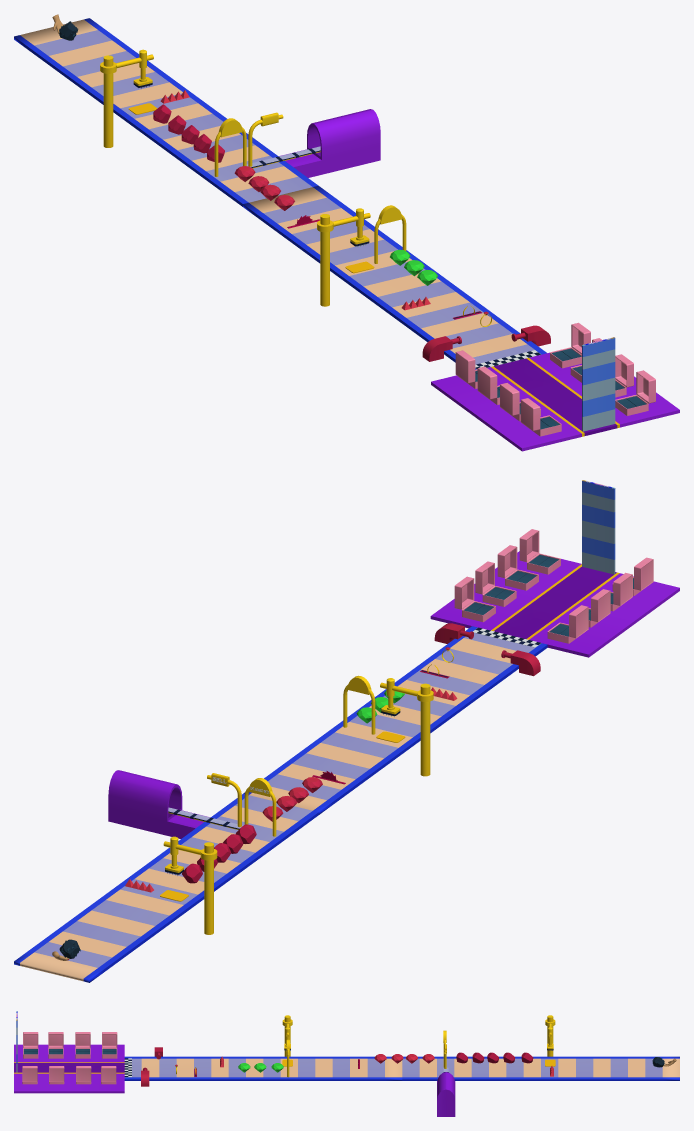
Rendered from my stack game (1).fbx.
3 renders of one model, top to bottom at view 1: azimuth 30°, elevation 25°; view 2: azimuth 150°, elevation 25°; view 3: azimuth 270°, elevation 25°, orthographic. The views are drawn at different scales.
Parts seen in each view (by area): view 1: plane, Plane, SELL, PointsT, Circle, Circle.001, Cube.004, Cube.018, Cube.010; view 2: plane, Plane, SELL, PointsT, Circle.001, Circle, Cube.004, Cube.006, Cube.010, Cube.008, Cube.012; view 3: plane, Plane, SELL, Cube.012, Cube.014, Cube.016, Cube.018, Cube.006, Cube.008, Cube.004, Cube.010, Circle (+1 smaller).
Part boxes in pixels (x1,y1,x2,y2): plane: [14, 18, 546, 369]; Plane: [431, 352, 679, 451]; SELL: [279, 109, 380, 177]; PointsT: [582, 337, 615, 431]; Circle: [100, 49, 153, 147]; Circle.001: [317, 208, 370, 306]; Cube.004: [615, 370, 655, 415]; Cube.018: [520, 398, 561, 436]; Cube.010: [550, 322, 590, 368]; plane: [14, 626, 547, 982]; Plane: [430, 551, 679, 657]; SELL: [108, 770, 210, 838]; PointsT: [582, 480, 615, 574]; Circle.001: [380, 678, 433, 776]; Circle: [163, 836, 217, 934]; Cube.004: [519, 529, 560, 574]; Cube.006: [497, 545, 538, 590]; Cube.010: [454, 576, 495, 622]; Cube.008: [475, 561, 516, 606]; Cube.012: [547, 605, 588, 643]; plane: [124, 1056, 679, 1080]; Plane: [14, 1044, 124, 1093]; SELL: [437, 1072, 455, 1116]; Cube.012: [102, 1032, 117, 1058]; Cube.014: [75, 1032, 90, 1058]; Cube.016: [48, 1032, 63, 1058]; Cube.018: [23, 1032, 38, 1058]; Cube.006: [49, 1066, 64, 1084]; Cube.008: [76, 1066, 91, 1084]; Cube.004: [22, 1066, 37, 1084]; Cube.010: [101, 1066, 116, 1084]; Circle: [545, 1015, 555, 1056].
Bounding box in the file's own units: 1216 × 639 × 5571.
